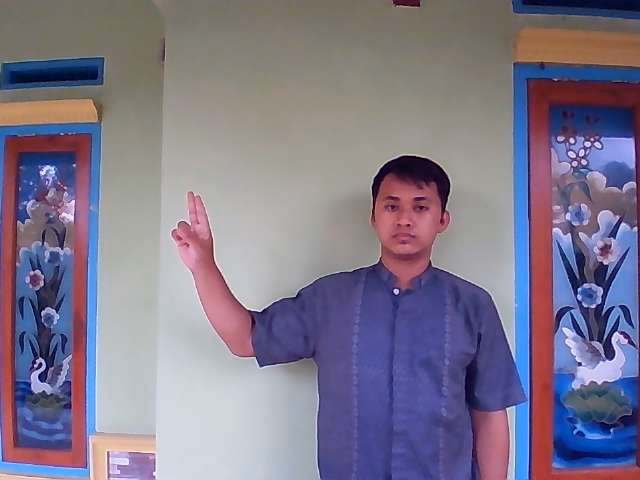U: (168, 189, 217, 273)
